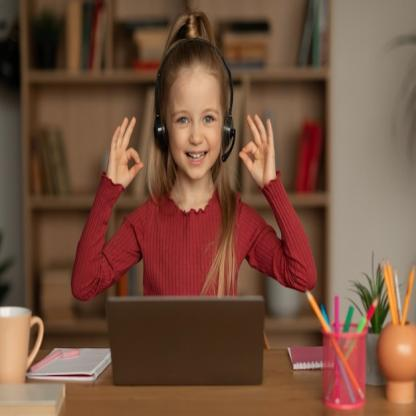ok: (106, 114, 145, 194), (237, 110, 278, 185)
